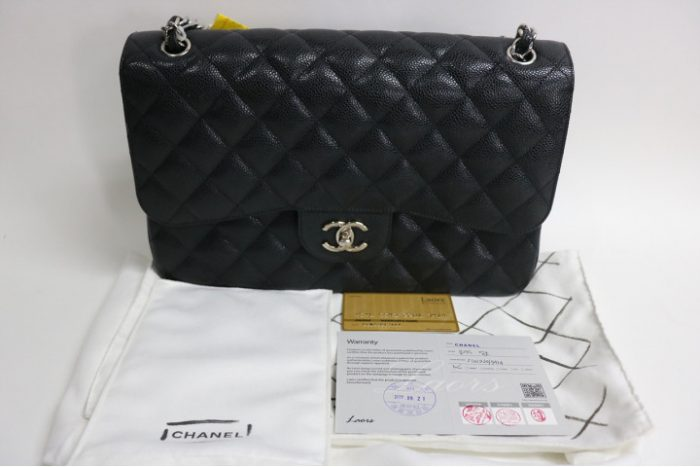channel: (113, 25, 573, 310), (163, 104, 289, 200), (304, 213, 390, 270), (153, 29, 231, 66)
